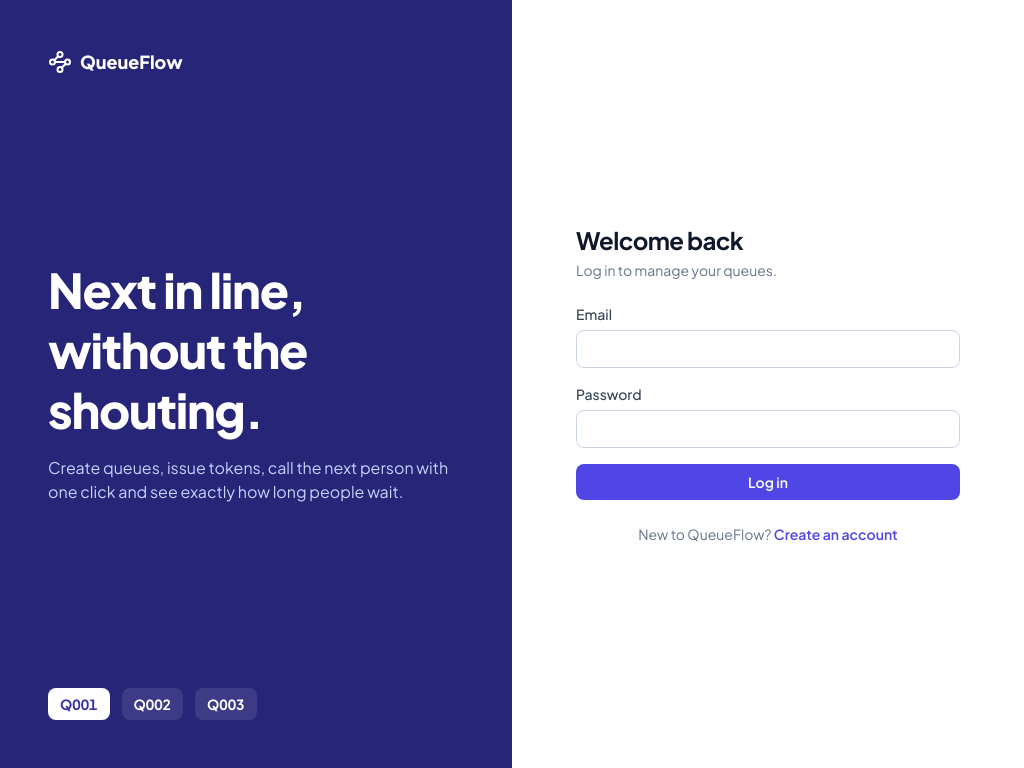
it: Login page › requires email and password before calling the API
The width and height of the screenshot is (1024, 768).
Click the button "Log in". click: (768,482)
box: [576,464,960,500]
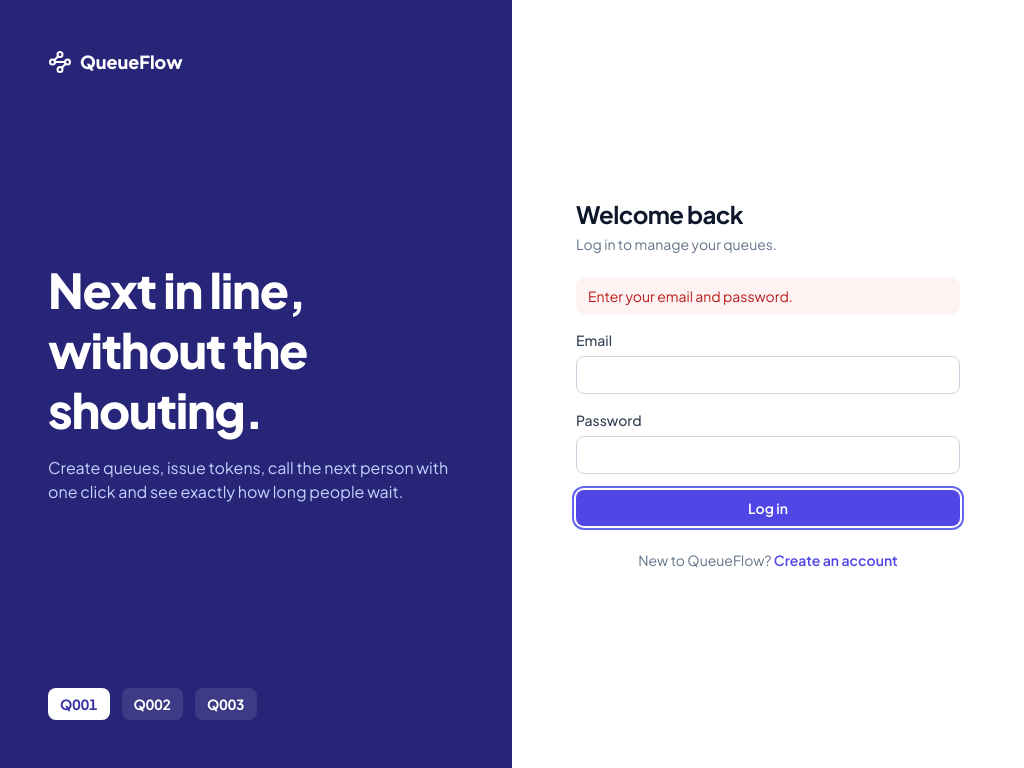
Result: the message shows "Enter your email and password" at [588,287,793,305]
